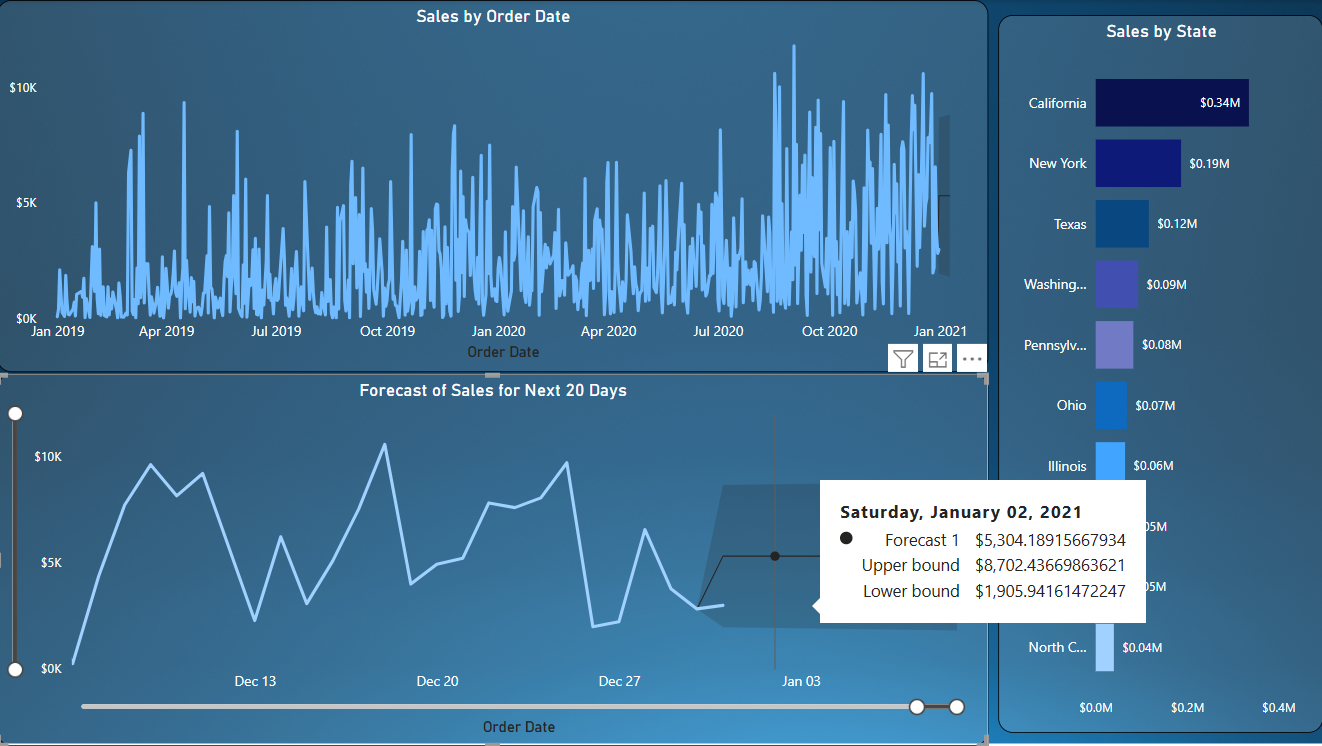

The page's visual inventory and layout, read from the dashboard file:
{"tool":"powerbi","page":{"name":"Sales Forcast","canvas":[1280,720],"ordinal":1},"visuals":[{"type":"lineChart","title":"Sales by Order Date","fields":{"Y":["Sum(SuperStore_Sales_Dataset.Sales)"],"Category":["SuperStore_Sales_Dataset.Order Date"]},"box":[0,0,956.4,359.5],"z":0},{"type":"lineChart","title":"Forecast of Sales for Next 20 Days","fields":{"Y":["Sum(SuperStore_Sales_Dataset.Sales)"],"Category":["SuperStore_Sales_Dataset.Order Date"]},"box":[0,360.9,956.4,359.5],"z":1000},{"type":"clusteredBarChart","title":"Sales by State","fields":{"Category":["SuperStore_Sales_Dataset.State"],"Y":["Sum(SuperStore_Sales_Dataset.Sales)"]},"box":[966.4,14.5,313.7,692.5],"z":2000}]}

Visuals, with their boxes in screenshot pixels (x1, y1, x2, y2), scaled from the page's 1280x720 canvas onto the 1322x746 screenshot:
"Sales by Order Date" lineChart: (x1=0, y1=0, x2=988, y2=372)
"Forecast of Sales for Next 20 Days" lineChart: (x1=0, y1=374, x2=988, y2=745)
"Sales by State" clusteredBarChart: (x1=998, y1=15, x2=1321, y2=733)
